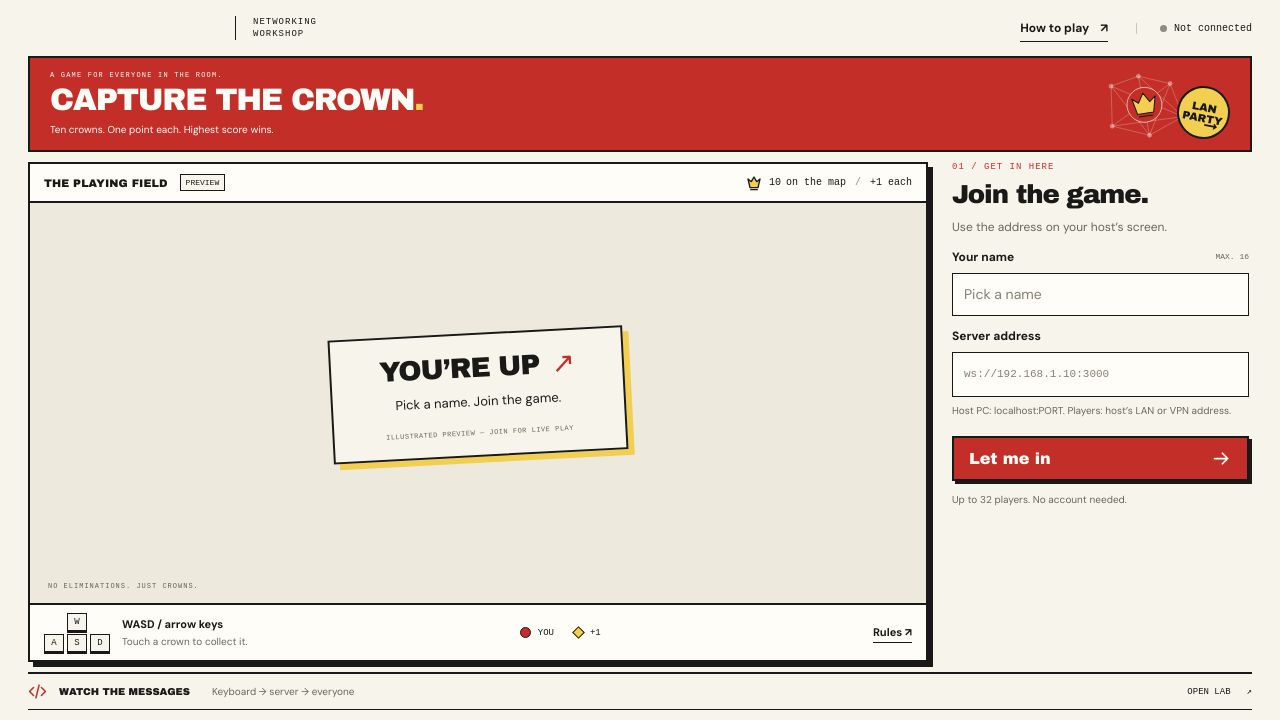
Test: game interface › lets the host join through localhost on the forwarded local port
Type "Krish" into the field labelled "Your name MAX. 16" at (1100, 294), box top-left (952, 273), bottom-right (1249, 316)
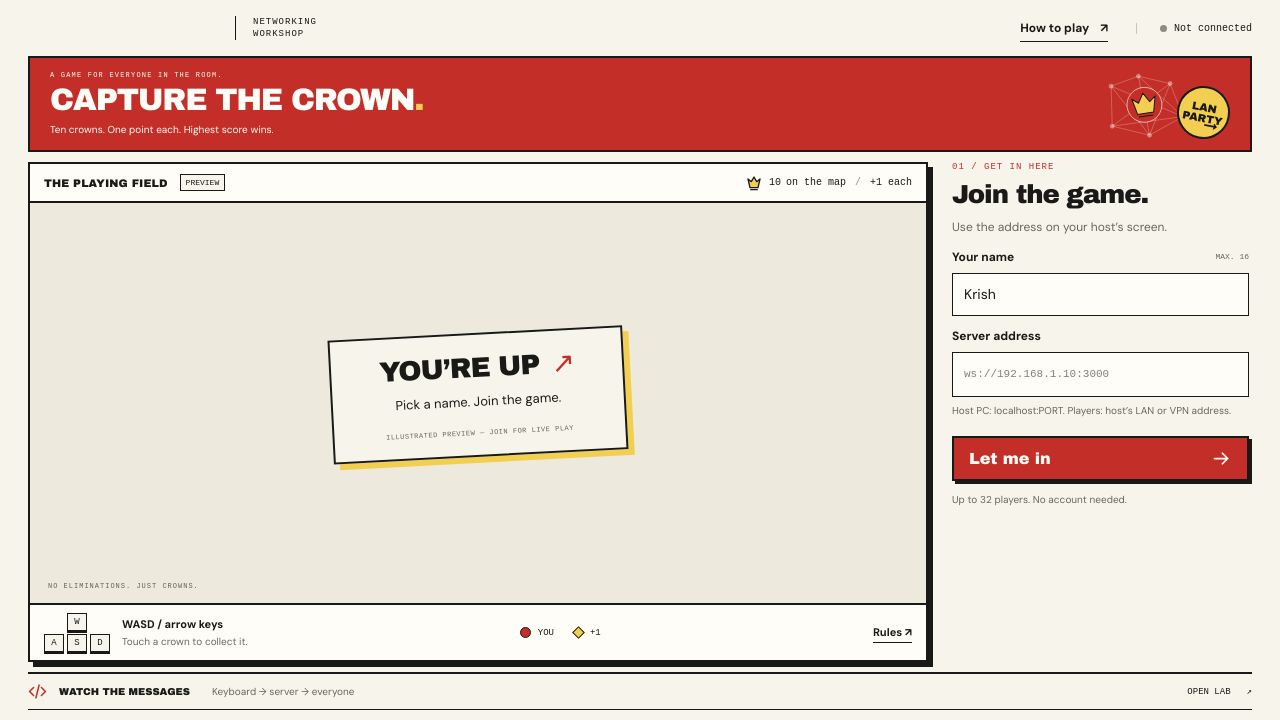
Type "localhost:27411" into the field labelled "Server address" at (1100, 374), box top-left (952, 352), bottom-right (1249, 397)
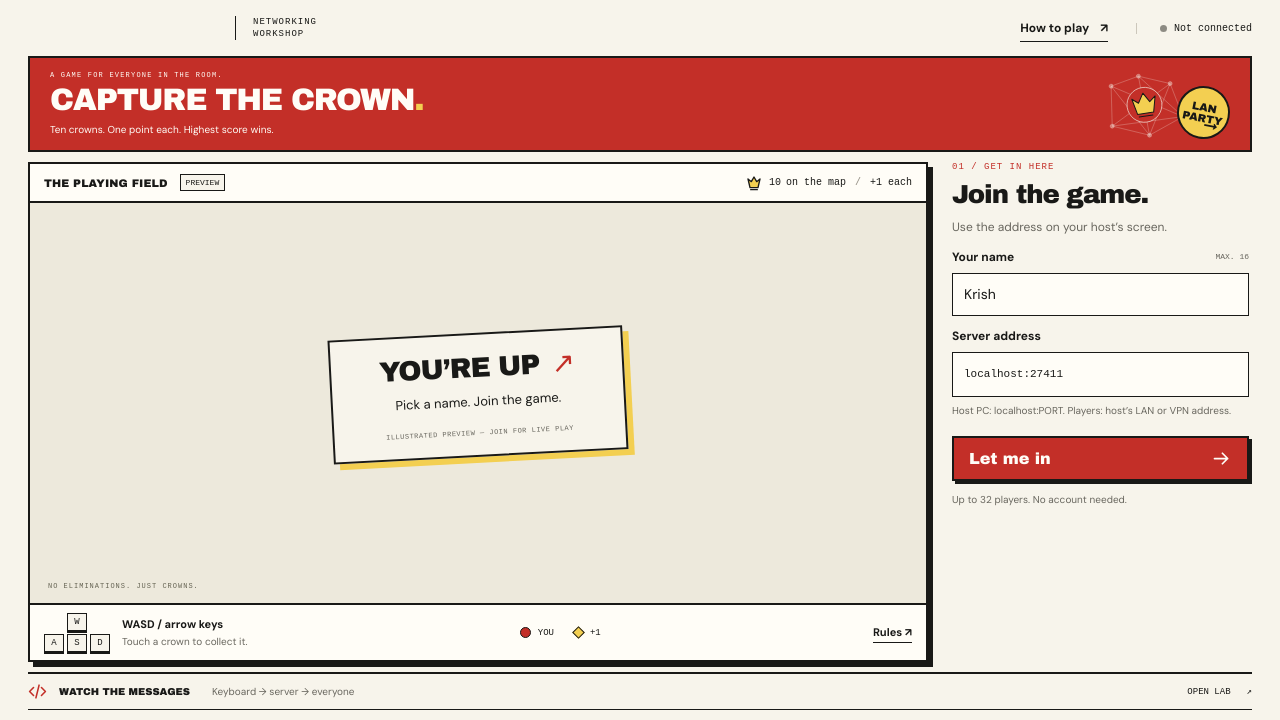
Submit the form with id "joinForm", box top-left (952, 248), bottom-right (1249, 481)
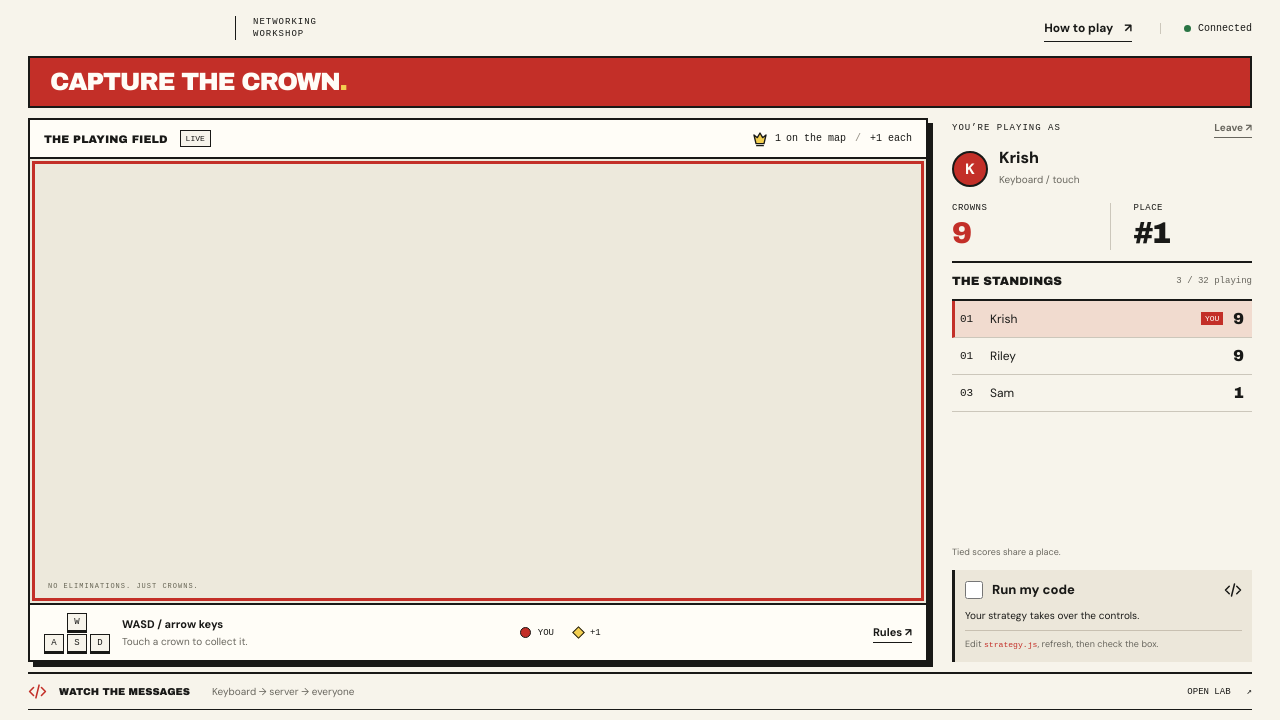
Now the heading "Krish" is shown, box top-left (999, 147), bottom-right (1039, 168)
